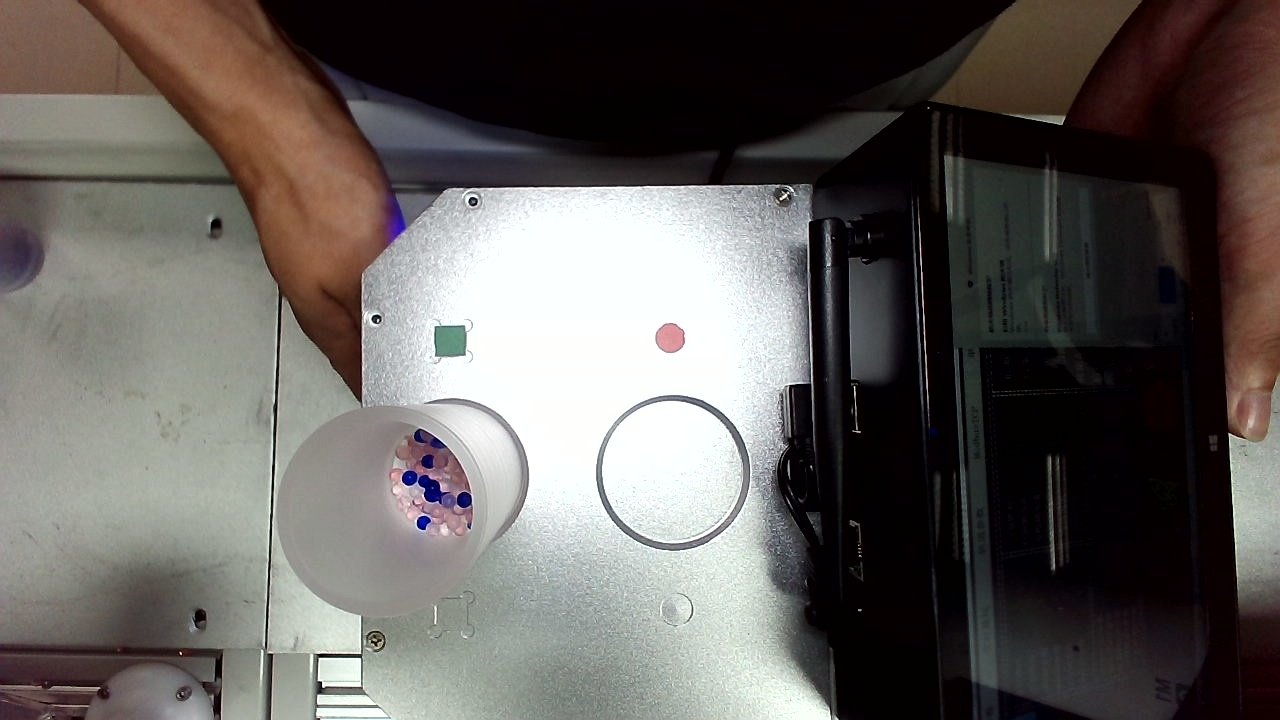bad: (839, 383, 890, 431), (256, 606, 304, 655), (784, 15, 829, 62), (266, 9, 310, 55), (815, 92, 859, 135), (467, 641, 507, 686), (261, 163, 304, 204), (747, 638, 788, 679), (765, 588, 806, 629), (813, 550, 852, 593), (260, 331, 299, 371), (578, 529, 616, 570), (832, 52, 873, 89), (753, 423, 790, 460), (801, 352, 837, 389), (806, 387, 841, 423), (802, 53, 835, 91), (404, 53, 438, 88), (424, 80, 459, 114)
defact: (687, 143, 727, 181)
pass: (578, 144, 621, 195), (649, 421, 691, 472), (386, 479, 431, 523), (287, 565, 329, 610), (613, 387, 655, 430), (833, 459, 874, 502), (545, 371, 585, 415), (261, 406, 304, 446), (690, 94, 729, 138), (598, 608, 636, 652), (763, 135, 801, 178), (412, 277, 452, 317), (619, 580, 656, 623), (857, 591, 892, 632), (677, 39, 711, 77), (395, 66, 425, 107)
toolong: (747, 482, 814, 545), (333, 38, 373, 104), (782, 436, 825, 496)
unpass: (794, 201, 844, 246), (260, 525, 308, 570), (832, 1, 875, 51), (836, 344, 880, 387), (380, 112, 424, 154), (256, 286, 300, 327), (647, 356, 686, 402), (269, 201, 314, 240), (769, 361, 808, 404), (845, 421, 889, 459), (822, 638, 862, 678), (731, 580, 768, 622), (680, 550, 717, 591), (800, 614, 836, 656), (584, 563, 622, 602), (278, 365, 319, 401), (858, 639, 897, 676), (593, 24, 629, 64), (747, 89, 781, 130), (293, 3, 330, 40), (521, 30, 556, 68), (804, 420, 840, 455), (651, 11, 685, 48)
